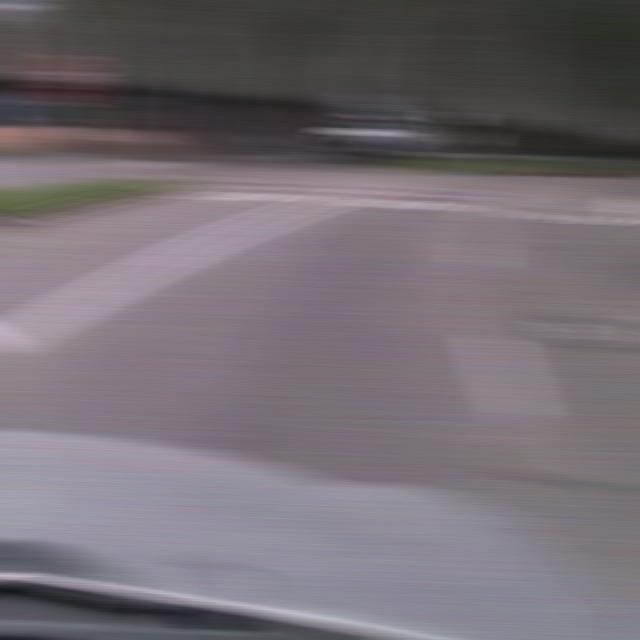stop_sign: (37, 54, 98, 106)
